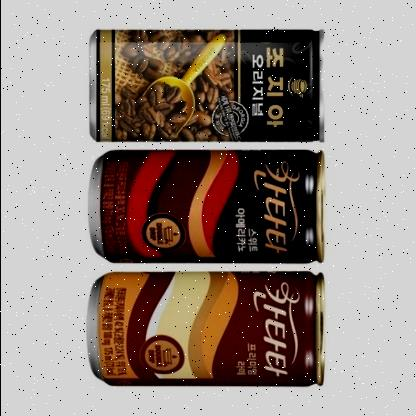Can: (82, 23, 328, 145), (84, 147, 332, 265), (85, 270, 329, 388)
